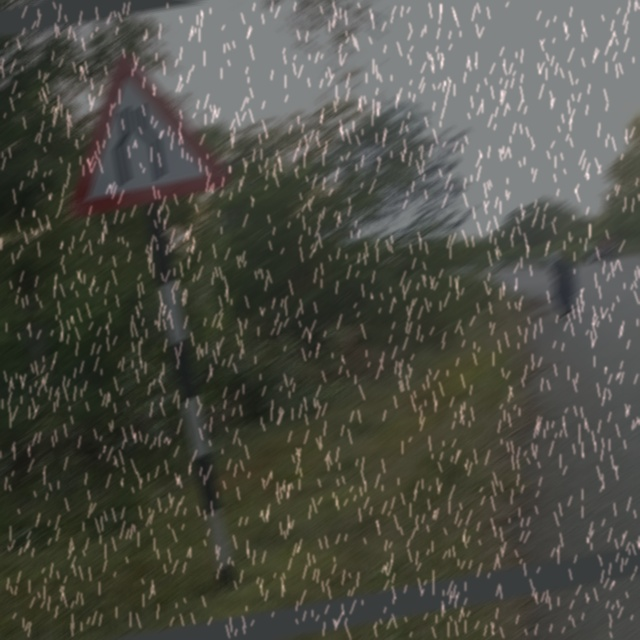Narrow_Road_Ahead: (44, 34, 236, 216)
